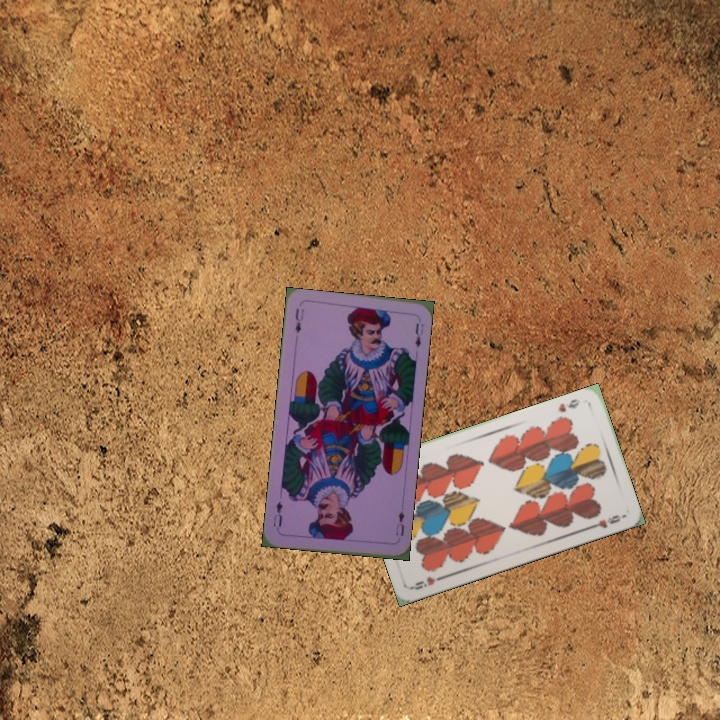EU: (291, 304, 307, 336), (392, 507, 407, 538)
H9: (408, 571, 448, 593), (554, 395, 583, 415)
